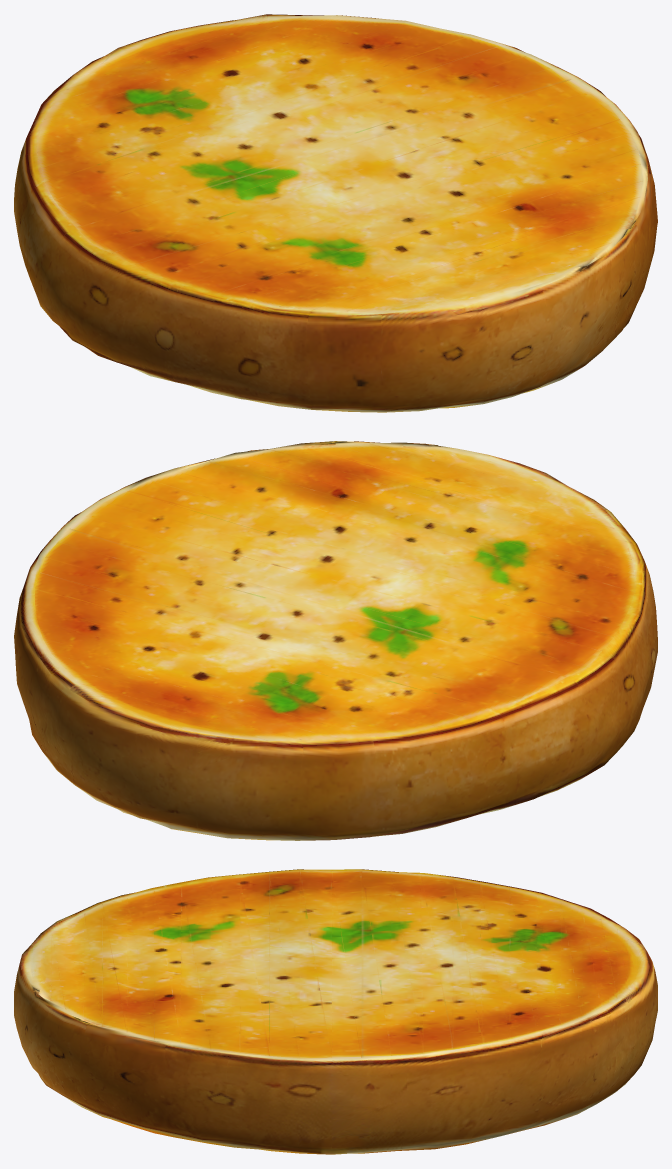
File: fried_potato_slice.fbx
3 renders of one model, top to bottom at view 1: azimuth 30°, elevation 25°; view 2: azimuth 150°, elevation 25°; view 3: azimuth 270°, elevation 25°, orthographic. The views are drawn at different scales.
Parts seen in each view (by area): view 1: Mesh_0.007; view 2: Mesh_0.007; view 3: Mesh_0.007.
Boxes of the visible parts, x1=… form: Mesh_0.007: x1=14, y1=14, x2=657, y2=412; Mesh_0.007: x1=14, y1=441, x2=657, y2=840; Mesh_0.007: x1=14, y1=869, x2=657, y2=1154.
Size of the model in its own units: 15.91 by 3.72 by 18.71.
Materials: 1 (1 with a texture image).
